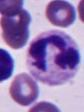N: (26, 29, 82, 87)
